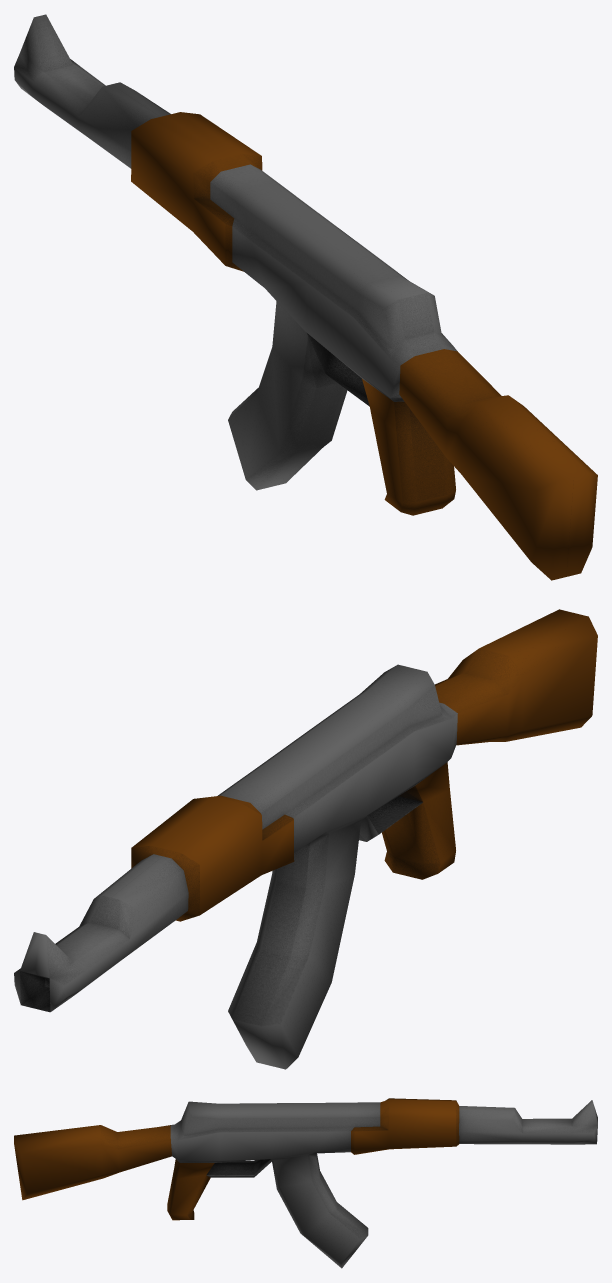
Rendered from Assault Rifle.glb.
3 renders of one model, top to bottom at view 1: azimuth 30°, elevation 25°; view 2: azimuth 150°, elevation 25°; view 3: azimuth 270°, elevation 25°, orthographic. The views are drawn at different scales.
Visible parts, largest first — view 1: Assault Rifle; view 2: Assault Rifle; view 3: Assault Rifle.
Part boxes in pixels (x1,y1,x2,y2): Assault Rifle: (14, 14, 597, 580); Assault Rifle: (14, 609, 597, 1069); Assault Rifle: (14, 1098, 597, 1268).
Bounding box in the file's own units: 2.86 × 11.97 × 38.78.
Materials: 1 (1 with a texture image).
